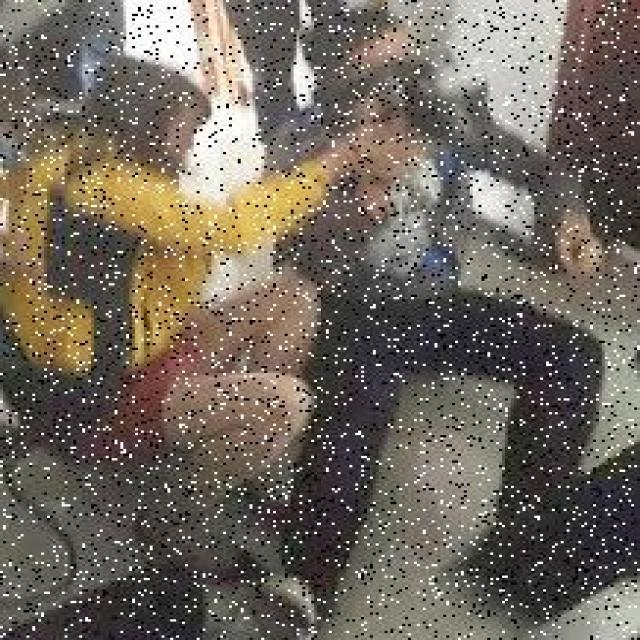fall: (279, 30, 552, 575)
